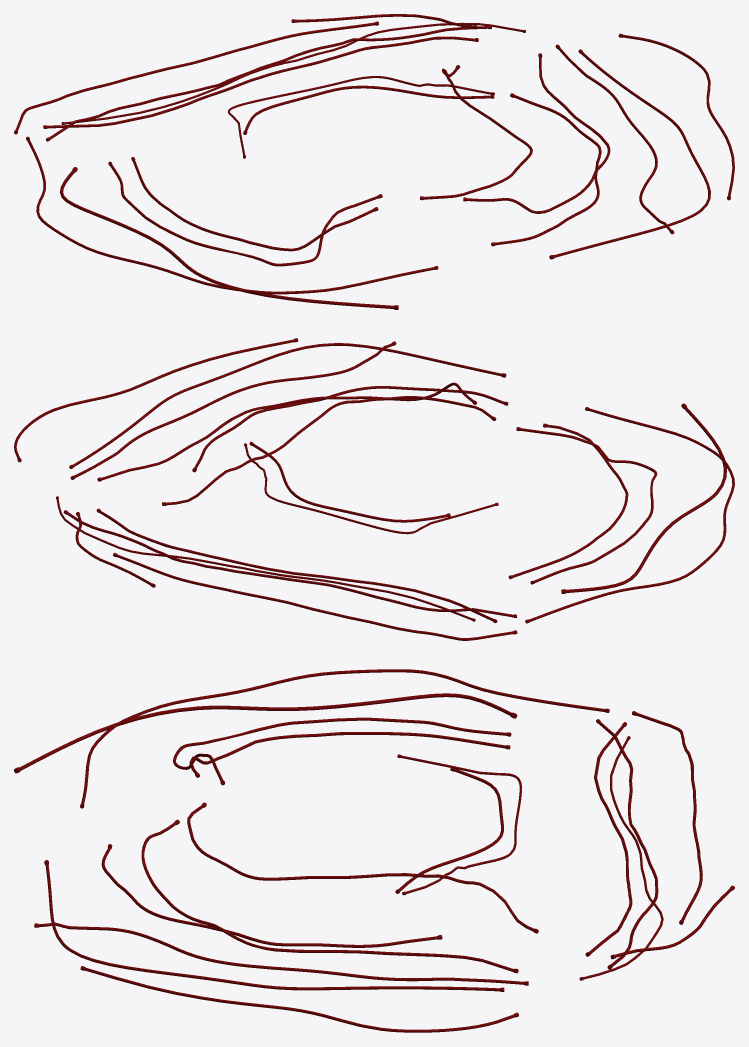
The model's file is Cable_Details_06.FBX.
3 renders of one model, top to bottom at view 1: azimuth 30°, elevation 25°; view 2: azimuth 150°, elevation 25°; view 3: azimuth 270°, elevation 25°, orthographic. The views are drawn at different scales.
Parts seen in each view (by area): view 1: Cable_Details_06; view 2: Cable_Details_06; view 3: Cable_Details_06.
Boxes of the visible parts, <box> form: Cable_Details_06: <box>14,14,734,309</box>; Cable_Details_06: <box>14,338,734,640</box>; Cable_Details_06: <box>14,669,734,1032</box>.
Bounding box in the file's own units: 1068 × 47.27 × 905.
